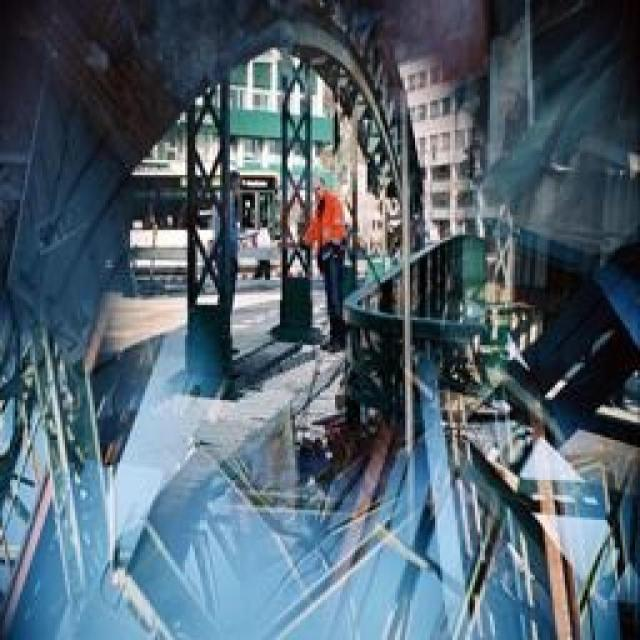Safety Vest: (286, 182, 364, 280)
